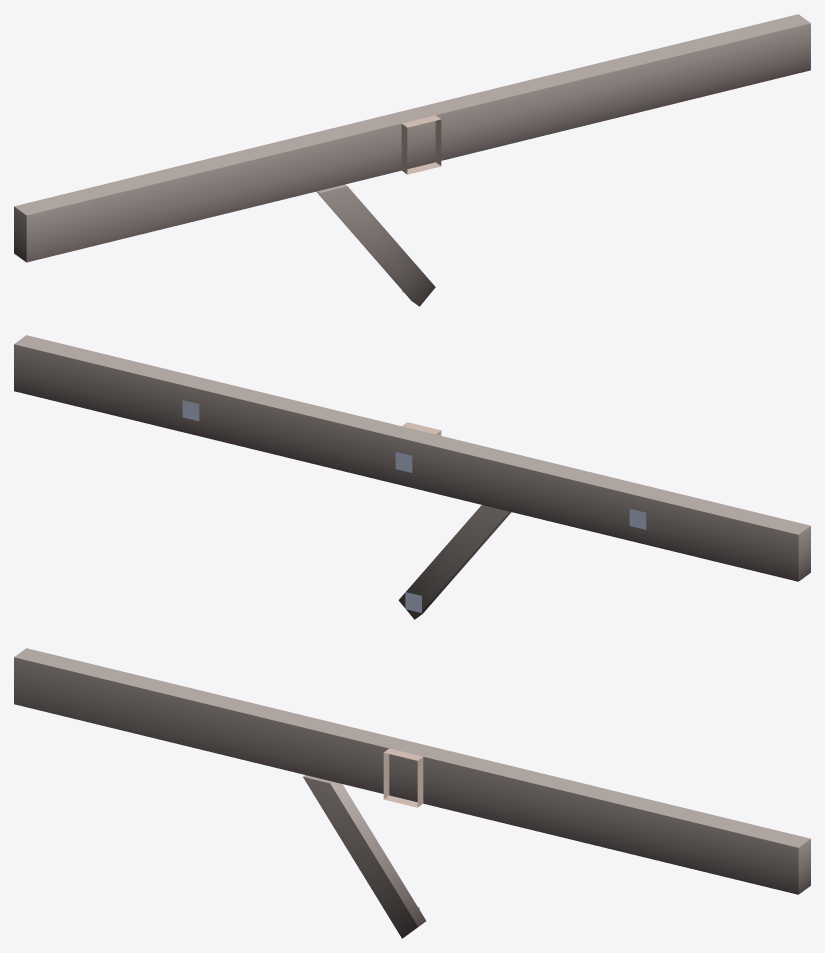
File: electrical_crosspiece.dae
3 renders of one model, top to bottom at view 1: azimuth 30°, elevation 25°; view 2: azimuth 150°, elevation 25°; view 3: azimuth 330°, elevation 25°, orthographic.
Visible parts, largest first — view 1: electrical_crosspiece_a100, electrical_crosspiece_a30; view 2: electrical_crosspiece_a100; view 3: electrical_crosspiece_a100, electrical_crosspiece_a30.
Part boxes in pixels (x1,y1,x2,y2): electrical_crosspiece_a100: (14,14,810,292); electrical_crosspiece_a30: (316,186,435,306); electrical_crosspiece_a100: (14,335,810,619); electrical_crosspiece_a100: (14,648,810,926); electrical_crosspiece_a30: (303,777,417,938).
Size of the model in its own units: 2.1 by 0.0961 by 0.4742.
